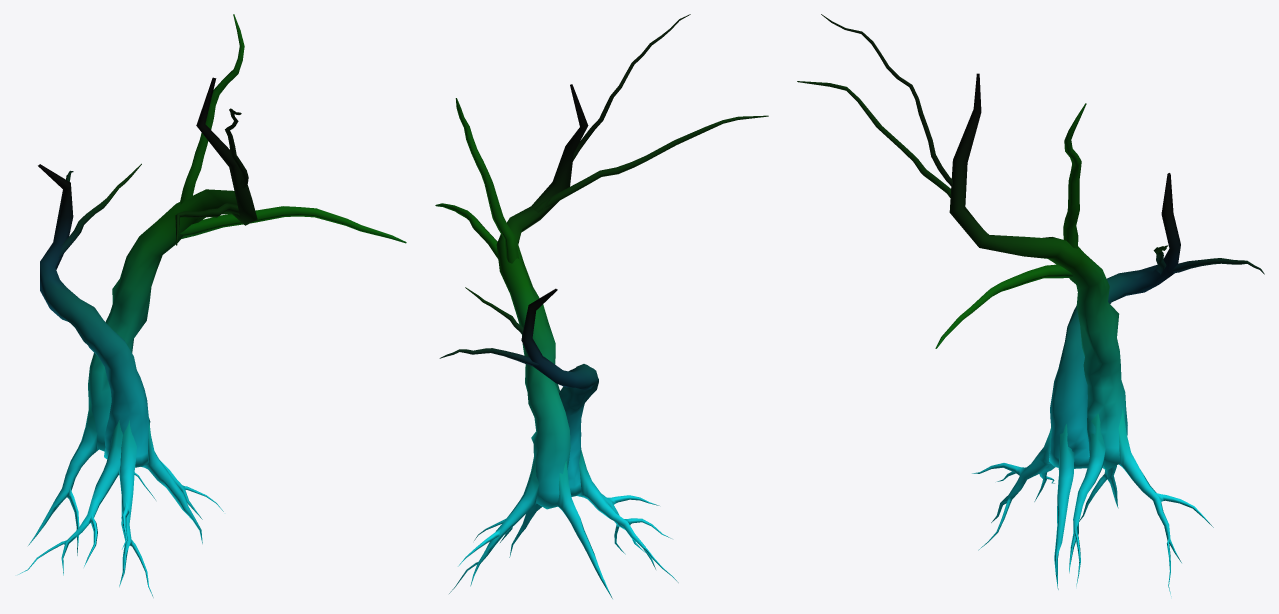
File: Burntree4.fbx
3 views of the same model, side by side, from view 1: azimuth 30°, elevation 25°; view 2: azimuth 150°, elevation 25°; view 3: azimuth 270°, elevation 25° (orthographic). The views are drawn at different scales.
Parts seen in each view (by area): view 1: Burntree4_LOD0; view 2: Burntree4_LOD0; view 3: Burntree4_LOD0.
Part boxes in pixels (bbox=[...]): Burntree4_LOD0: bbox=[18, 14, 406, 597]; Burntree4_LOD0: bbox=[435, 14, 768, 598]; Burntree4_LOD0: bbox=[797, 14, 1264, 596].
Size of what is drawn, in the model's own units: 472 by 733 by 575.
